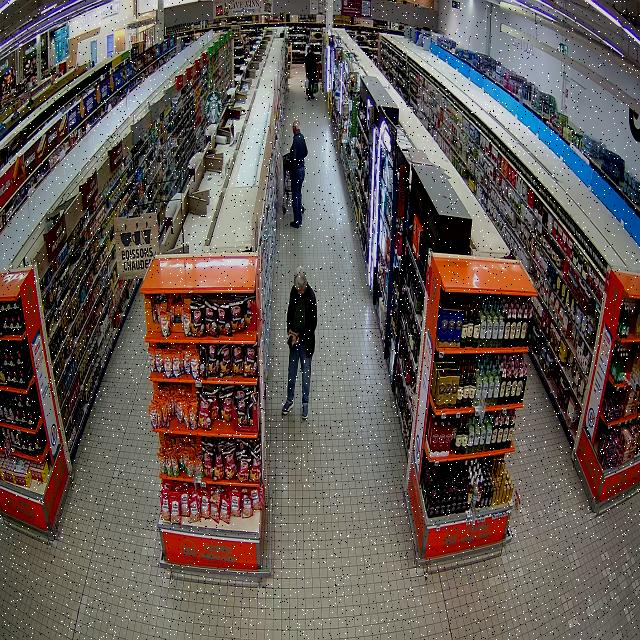article: (287, 331, 299, 348)
hands: (295, 336, 300, 344), (288, 329, 292, 334)
person: (282, 267, 317, 419), (290, 120, 308, 228)
